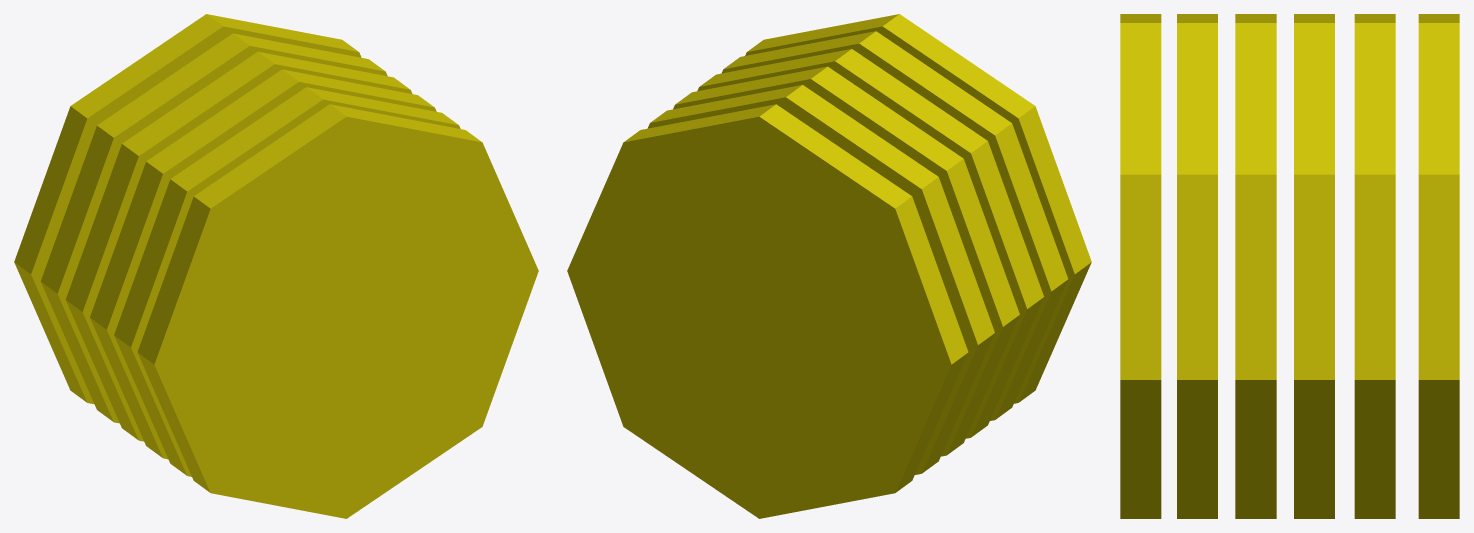
3 renders of one model, left to right at view 1: azimuth 30°, elevation 25°; view 2: azimuth 150°, elevation 25°; view 3: azimuth 270°, elevation 25°, orthographic. The views are drawn at different scales.
Visible parts, largest first — view 1: Cylinder_001; view 2: Cylinder_001; view 3: Cylinder_001.
Part boxes in pixels (bbox=[...]): Cylinder_001: bbox=[14, 14, 538, 518]; Cylinder_001: bbox=[567, 14, 1091, 518]; Cylinder_001: bbox=[1120, 14, 1459, 518].
Bounding box in the file's own units: 1.18 × 0.7425 × 1.18.
